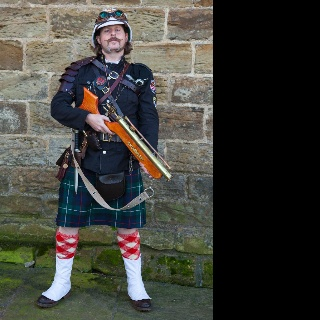without_mask: (96, 24, 128, 50)
